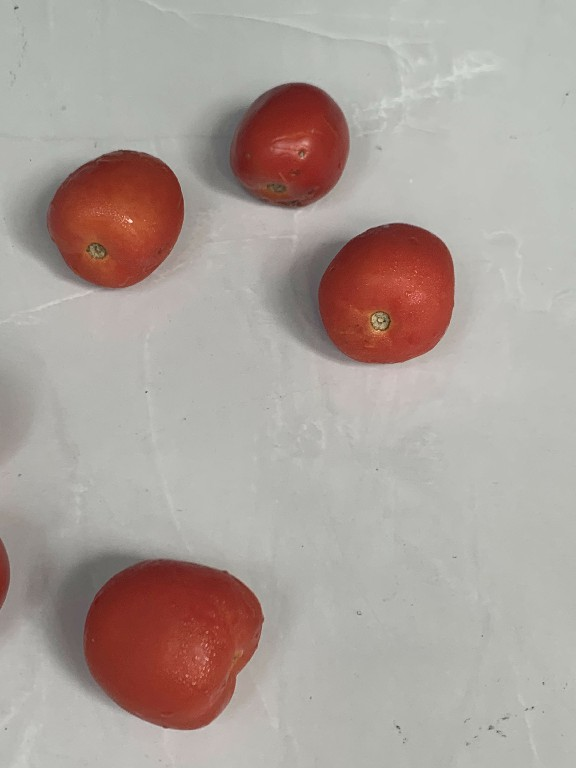NG: (221, 73, 360, 213)
OK: (78, 552, 280, 742), (39, 141, 193, 297), (320, 222, 470, 379)
